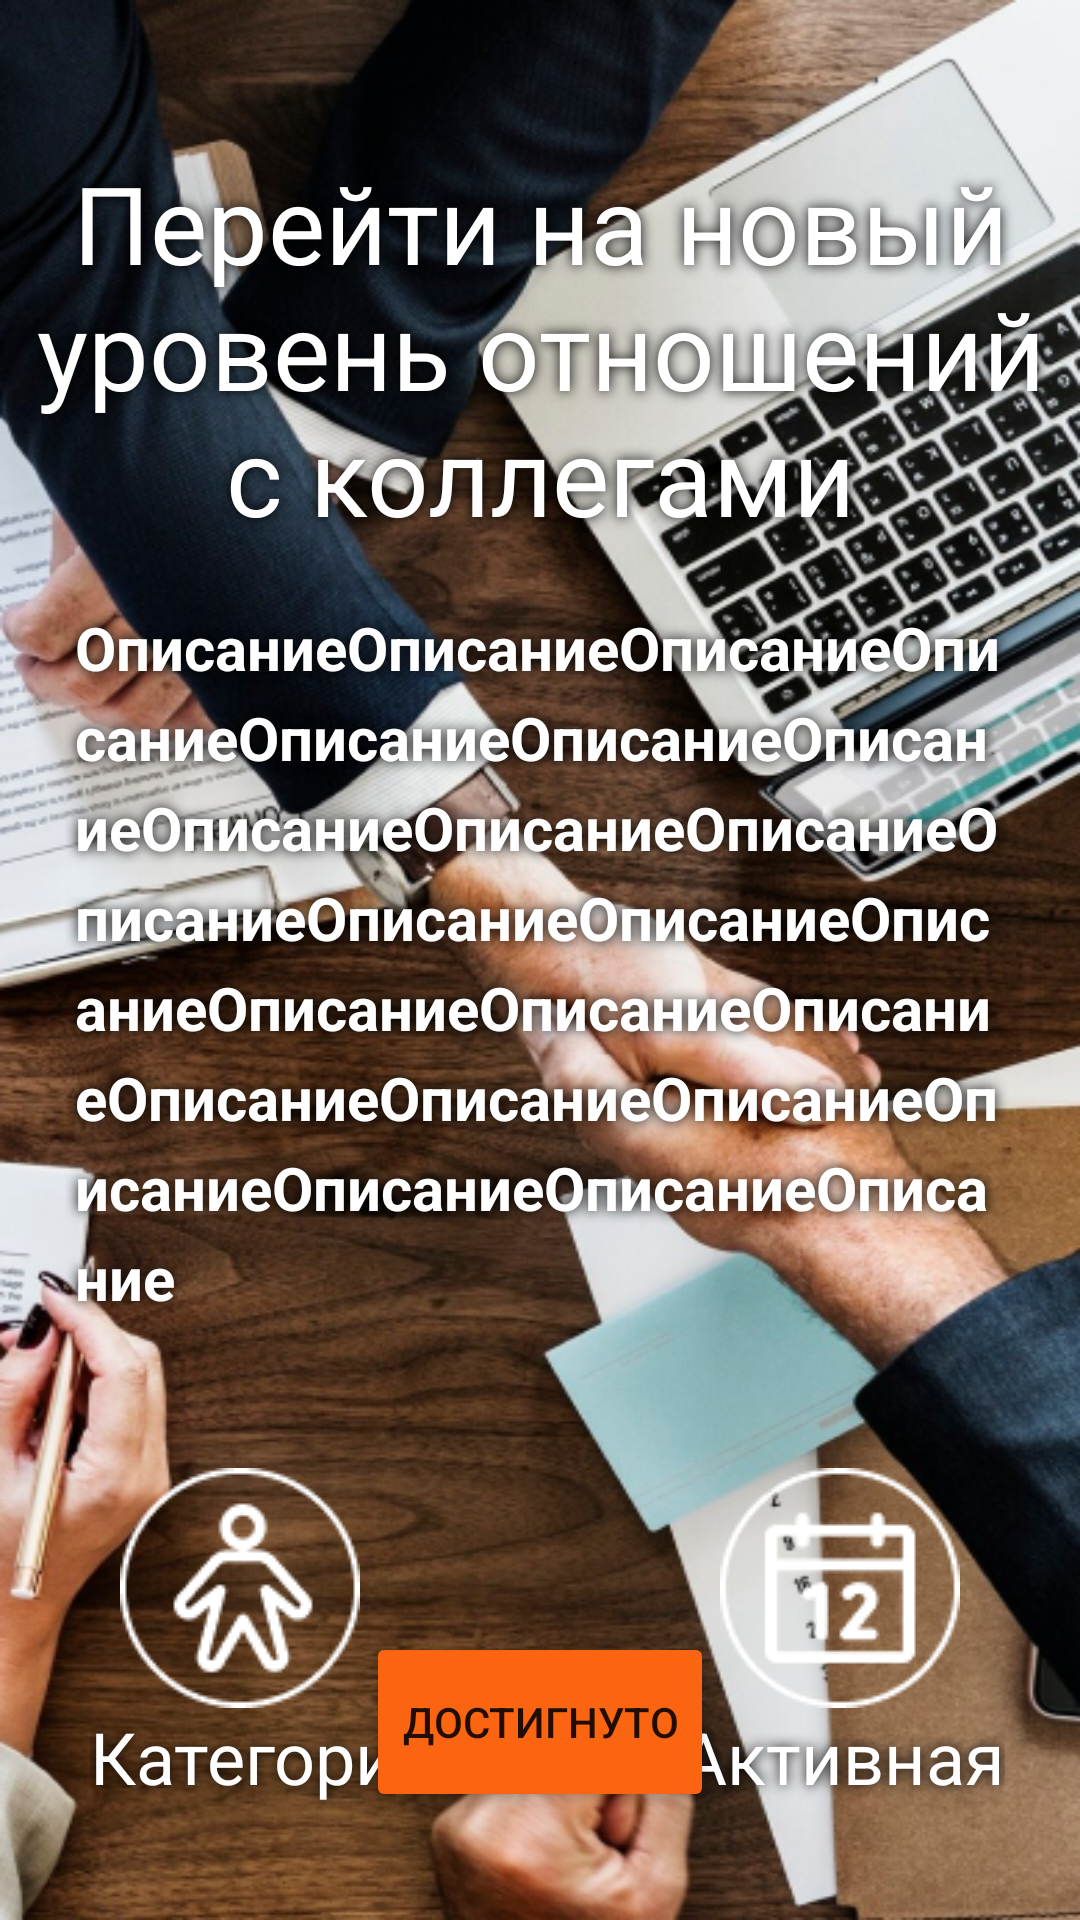

Icon click points for this 1080w x 1920h phone screenshot, format (x=x, y=y):
calendartime: (x=840, y=1588)
